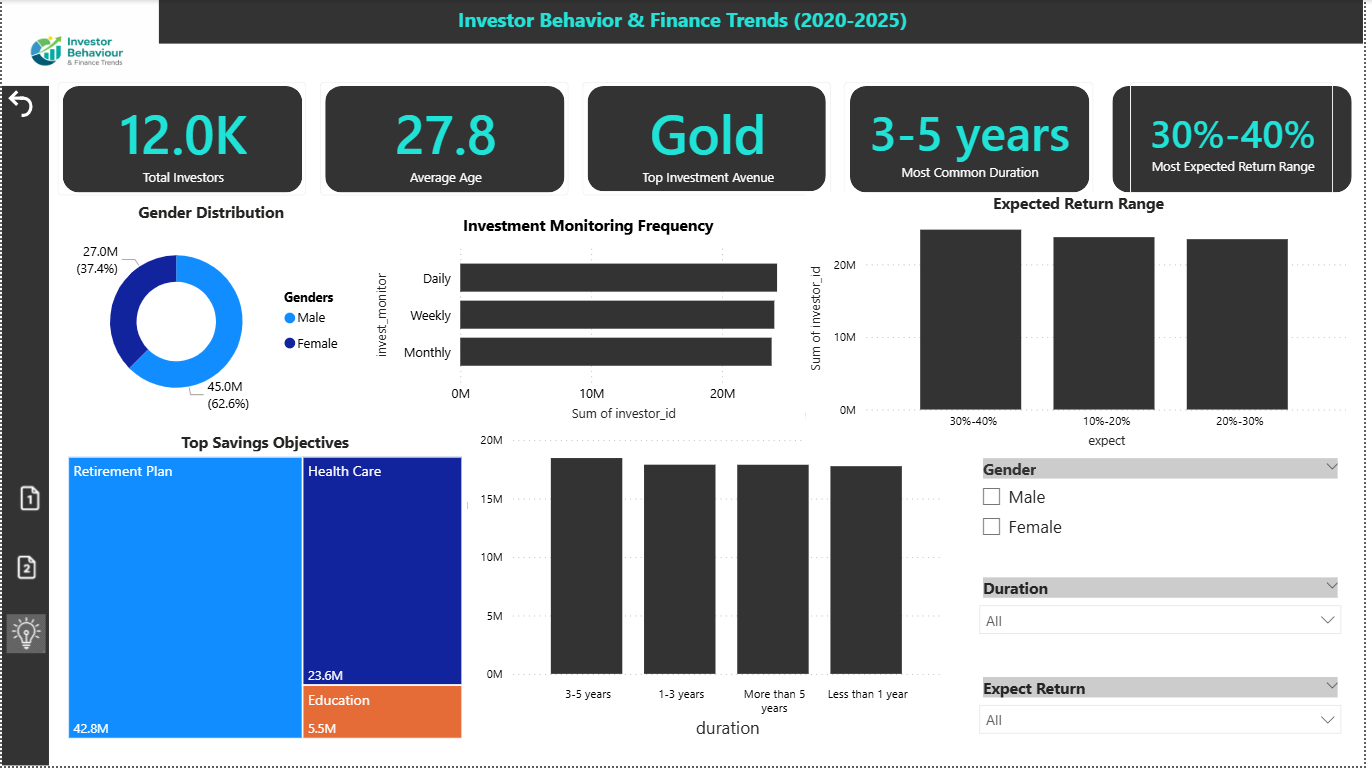

The dashboard page shown, as its layout file describes it:
{"tool":"powerbi","page":{"name":"Page 1","canvas":[1280,720],"ordinal":0},"visuals":[{"type":"textbox","box":[0,0,1279.7,40.9],"z":0},{"type":"image","box":[0,0,147.6,99.1],"z":1000},{"type":"shape","box":[57.1,80.8,225.1,100.2],"z":2000},{"type":"shape","box":[304,80.8,225.1,100.2],"z":3000},{"type":"shape","box":[551,80.8,224.1,99.1],"z":4000},{"type":"shape","box":[796.8,80.8,225.1,100.2],"z":5000},{"type":"shape","box":[1043.8,80.8,225.1,100.2],"z":6000},{"type":"shape","box":[0,80.8,44.2,638.8],"z":7000},{"type":"cardVisual","fields":{"Data":["Measures (2).Total Investors"]},"box":[35.5,60.3,268.2,141.1],"z":8000},{"type":"cardVisual","fields":{"Data":["Measures (2).Average Age"]},"box":[282.2,60.3,268.2,141.1],"z":9000},{"type":"cardVisual","fields":{"Data":["Measures (2).Top Investment Avenue"]},"box":[528.9,60.3,268.2,141.1],"z":10000},{"type":"cardVisual","fields":{"Data":["Measures (2).Most Common Duration"]},"box":[774.5,60.3,269.3,141.1],"z":11000},{"type":"cardVisual","fields":{"Data":["Measures (2).Most Expected Return Range"]},"box":[1043.8,60.3,225.1,141.1],"z":12000},{"type":"donutChart","title":"Gender Distribution","fields":{"Category":["finance_trends_clean.gender"],"Y":["Sum(finance_trends_clean.investor_id)"]},"box":[57.1,189.6,279,211.1],"z":13000},{"type":"clusteredColumnChart","title":"Preferred Investment Duration","fields":{"Category":["finance_trends_clean.duration"],"Y":["Sum(finance_trends_clean.investor_id)"]},"box":[416.9,380.2,471.8,318.8],"z":14000},{"type":"clusteredColumnChart","title":"Expected Return Range","fields":{"Category":["finance_trends_clean.expect"],"Y":["Sum(finance_trends_clean.investor_id)"]},"box":[755.1,181,513.8,244.5],"z":15000},{"type":"clusteredBarChart","title":"Investment Monitoring Frequency","fields":{"Category":["finance_trends_clean.invest_monitor"],"Y":["Sum(finance_trends_clean.investor_id)"]},"box":[346.8,201.4,408.2,199.3],"z":16000},{"type":"treemap","title":"Top Savings Objectives","fields":{"Group":["finance_trends_clean.savings_objective"],"Values":["Sum(finance_trends_clean.investor_id)"]},"box":[57.1,405,380.2,294.1],"z":17000},{"type":"slicer","fields":{"Values":["finance_trends_clean.gender"]},"box":[909.1,425.5,359.8,91.6],"z":18000},{"type":"slicer","fields":{"Values":["finance_trends_clean.duration"]},"box":[909.1,537.5,359.8,71.1],"z":19000},{"type":"slicer","fields":{"Values":["finance_trends_clean.expect"]},"box":[909.1,631.2,359.8,67.9],"z":20000},{"type":"actionButton","box":[0,79.7,44.2,34.5],"z":21000},{"type":"actionButton","box":[2.5,443.8,44.2,48.5],"z":22000},{"type":"actionButton","box":[0,573.1,59.2,45.2],"z":23000},{"type":"actionButton","box":[2.5,511.7,44.2,42],"z":24000}]}

Visuals, with their boxes on the page's 1280x720 design canvas (x1, y1, x2, y2). These are canvas units, not pixel positions in the 1372x772 screenshot, which may show the page scaled, cropped or inside an application window:
textbox: l=0, t=0, r=1280, b=41
image: l=0, t=0, r=148, b=99
shape: l=57, t=81, r=282, b=181
shape: l=304, t=81, r=529, b=181
shape: l=551, t=81, r=775, b=180
shape: l=797, t=81, r=1022, b=181
shape: l=1044, t=81, r=1269, b=181
shape: l=0, t=81, r=44, b=720
cardVisual - Measures (2).Total Investors: l=36, t=60, r=304, b=201
cardVisual - Measures (2).Average Age: l=282, t=60, r=550, b=201
cardVisual - Measures (2).Top Investment Avenue: l=529, t=60, r=797, b=201
cardVisual - Measures (2).Most Common Duration: l=774, t=60, r=1044, b=201
cardVisual - Measures (2).Most Expected Return Range: l=1044, t=60, r=1269, b=201
"Gender Distribution" donutChart: l=57, t=190, r=336, b=401
"Preferred Investment Duration" clusteredColumnChart: l=417, t=380, r=889, b=699
"Expected Return Range" clusteredColumnChart: l=755, t=181, r=1269, b=426
"Investment Monitoring Frequency" clusteredBarChart: l=347, t=201, r=755, b=401
"Top Savings Objectives" treemap: l=57, t=405, r=437, b=699
slicer - finance_trends_clean.gender: l=909, t=426, r=1269, b=517
slicer - finance_trends_clean.duration: l=909, t=538, r=1269, b=609
slicer - finance_trends_clean.expect: l=909, t=631, r=1269, b=699
actionButton: l=0, t=80, r=44, b=114
actionButton: l=2, t=444, r=47, b=492
actionButton: l=0, t=573, r=59, b=618
actionButton: l=2, t=512, r=47, b=554
